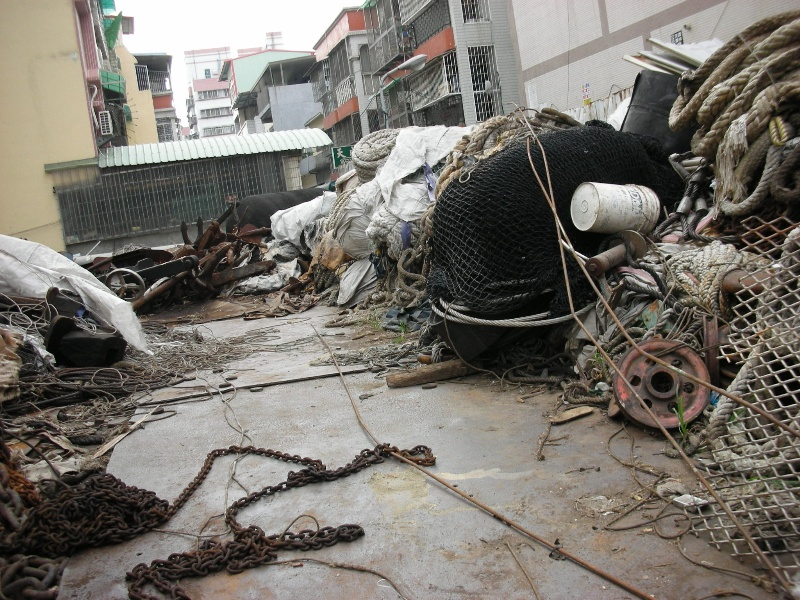bucket: (567, 180, 660, 234)
plastic_bag: (1, 232, 116, 307), (381, 127, 465, 215), (269, 193, 338, 240)
